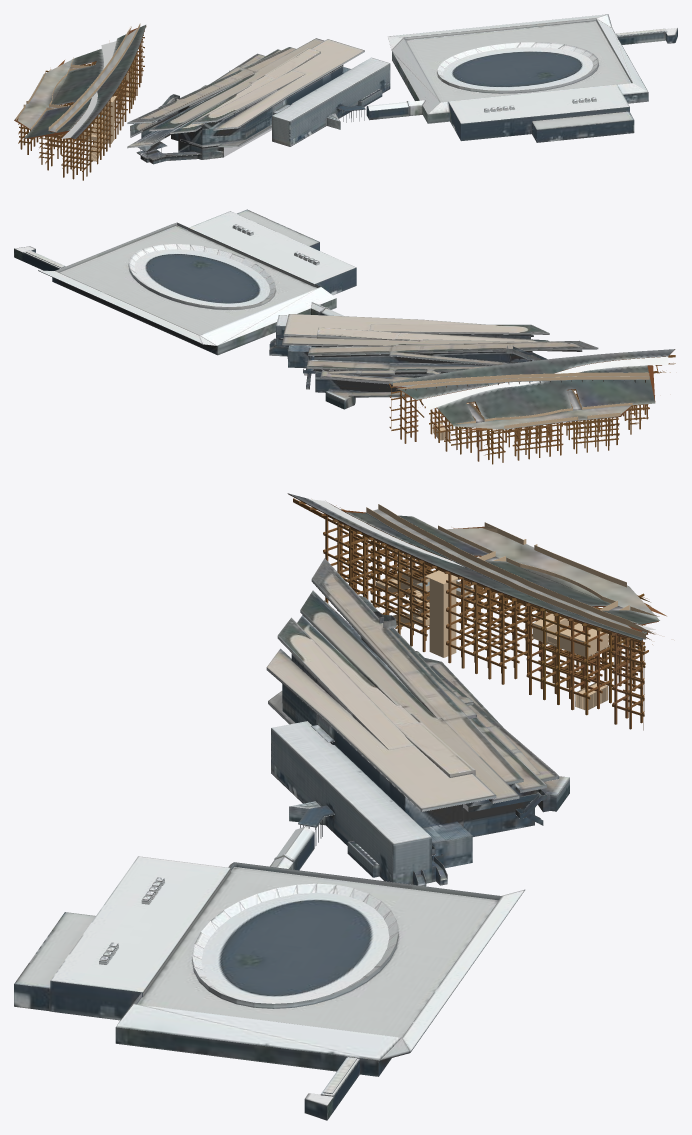
3 renders of one model, top to bottom at view 1: azimuth 30°, elevation 25°; view 2: azimuth 150°, elevation 25°; view 3: azimuth 270°, elevation 25°, orthographic. The views are drawn at different scales.
Parts seen in each view (by area): view 1: Buildings_建物パビリオン, GrandRoofRing_大屋根リング; view 2: Buildings_建物パビリオン, GrandRoofRing_大屋根リング; view 3: Buildings_建物パビリオン, GrandRoofRing_大屋根リング.
Part boxes in pixels (bbox=[...]): Buildings_建物パビリオン: bbox=[127, 14, 677, 164]; GrandRoofRing_大屋根リング: bbox=[14, 23, 146, 180]; Buildings_建物パビリオン: bbox=[14, 209, 598, 409]; GrandRoofRing_大屋根リング: bbox=[389, 349, 675, 464]; Buildings_建物パビリオン: bbox=[14, 558, 569, 1120]; GrandRoofRing_大屋根リング: bbox=[287, 493, 666, 730].
Bounding box in the file's own units: 255 × 21.89 × 130.
8 materials, 6 textured.
